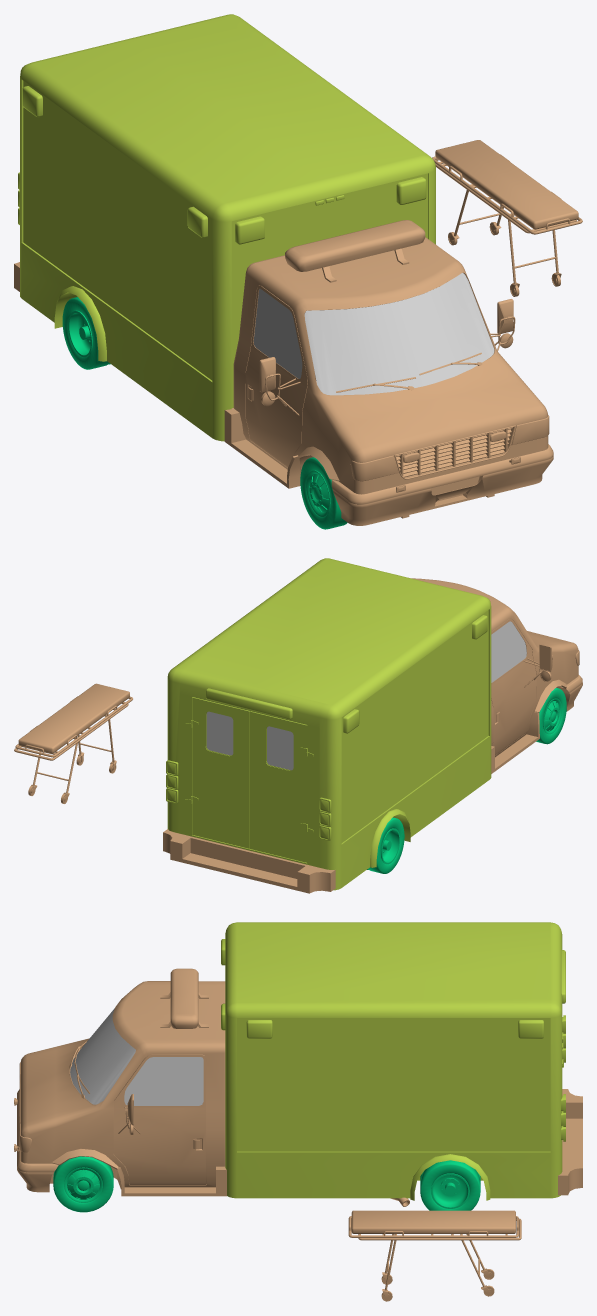
Rendered from Ambulance.fbx.
The picture shows the model from 3 angles, top to bottom: view 1: azimuth 30°, elevation 25°; view 2: azimuth 150°, elevation 25°; view 3: azimuth 270°, elevation 25°; orthographic projection. The views are drawn at different scales.
Visible parts, largest first — view 1: Ambulance_1, Couch_1; view 2: Ambulance_1, Couch_1; view 3: Ambulance_1, Couch_1.
Boxes of the visible parts, x1,y1,x2,y2 form: Ambulance_1: [14, 14, 553, 529]; Couch_1: [432, 140, 582, 292]; Ambulance_1: [163, 558, 582, 893]; Couch_1: [14, 683, 132, 800]; Ambulance_1: [14, 922, 582, 1212]; Couch_1: [348, 1210, 521, 1298].
Bounding box in the file's own units: 514 × 275 × 676.
